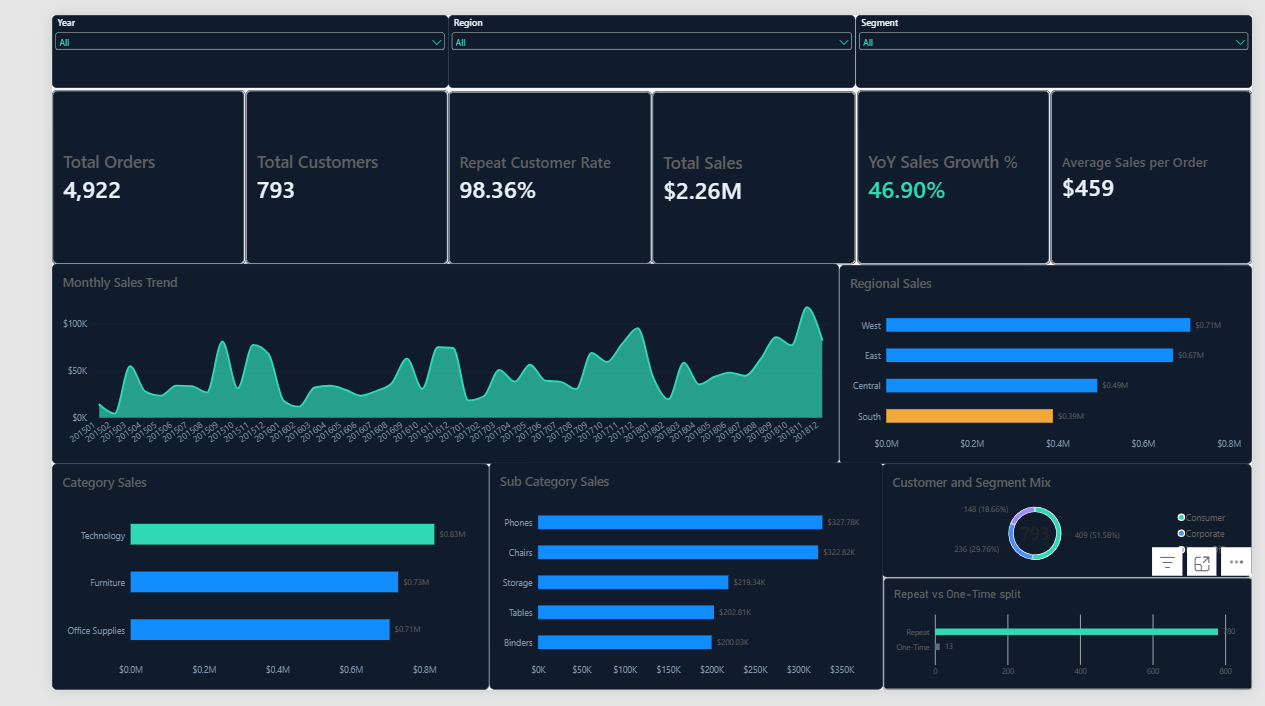

What the dashboard file says about the page in this screenshot:
{"tool":"powerbi","page":{"name":"Page 1","canvas":[1920,1080],"ordinal":0},"visuals":[{"type":"cardVisual","fields":{"Data":["Sales.Total Orders"]},"box":[0,119,309.5,279.2],"z":0},{"type":"cardVisual","fields":{"Data":["Sales.Total Customers"]},"box":[309.5,119,324.6,279.2],"z":1},{"type":"cardVisual","fields":{"Data":["Sales.Average Sales per Order"]},"box":[1597.1,119,322.5,279.2],"z":2},{"type":"cardVisual","fields":{"Data":["Sales.Repeat Customer Rate"]},"box":[634.1,121.2,326.8,277],"z":3},{"type":"cardVisual","fields":{"Data":["Sales.Total Sales"]},"box":[960.9,121.2,326.8,277],"z":4},{"type":"cardVisual","fields":{"Data":["Sales.YoY Sales Growth %"]},"box":[1287.7,119,309.5,279.2],"z":5},{"type":"lineChart","title":"Monthly Sales Trend","fields":{"Category":["DateTable.YearMonth"],"Y":["Sales.Total Sales"]},"box":[0,398.2,1259.5,320.3],"z":7},{"type":"clusteredBarChart","title":"Regional Sales","fields":{"Category":["Sales.Region"],"Y":["Sales.Total Sales"]},"box":[1259.5,400.4,660.1,318.1],"z":8},{"type":"slicer","title":"Year","fields":{"Values":["DateTable.Year"]},"box":[0,0,634.1,116.9],"z":9},{"type":"clusteredBarChart","title":"Category Sales","fields":{"Category":["Sales.Category"],"Y":["Sales.Total Sales"]},"box":[0,718.5,699,361.4],"z":10},{"type":"clusteredBarChart","title":"Sub Category Sales","fields":{"Category":["Sales.Sub-Category"],"Y":["Sales.Total Sales"]},"box":[699,716.3,629.8,363.6],"z":11},{"type":"donutChart","title":"Customer and Segment Mix","fields":{"Category":["Sales.Segment"],"Y":["Sales.Total Customers prev"]},"box":[1328.8,718.5,590.8,181.8],"z":12},{"type":"barChart","title":"Repeat vs One-Time split","fields":{"Category":["Sales.Customer Type"],"Y":["Count(Sales.Customer ID)"]},"box":[1329.2,900,590.8,180],"z":13},{"type":"slicer","title":"Year","fields":{"Values":["Sales.Region"]},"box":[634.1,0,651.4,116.9],"z":14},{"type":"slicer","title":"Year","fields":{"Values":["Sales.Segment"]},"box":[1285.5,0,634.1,116.9],"z":15}]}

Visuals, with their boxes in screenshot pixels (x1, y1, x2, y2), scaled from the page's 1920x1080 canvas onto the 1265x706 screenshot:
cardVisual - Sales.Total Orders: x1=0 y1=78 x2=204 y2=260
cardVisual - Sales.Total Customers: x1=204 y1=78 x2=418 y2=260
cardVisual - Sales.Average Sales per Order: x1=1052 y1=78 x2=1264 y2=260
cardVisual - Sales.Repeat Customer Rate: x1=418 y1=79 x2=633 y2=260
cardVisual - Sales.Total Sales: x1=633 y1=79 x2=848 y2=260
cardVisual - Sales.YoY Sales Growth %: x1=848 y1=78 x2=1052 y2=260
"Monthly Sales Trend" lineChart: x1=0 y1=260 x2=830 y2=470
"Regional Sales" clusteredBarChart: x1=830 y1=262 x2=1264 y2=470
"Year" slicer: x1=0 y1=0 x2=418 y2=76
"Category Sales" clusteredBarChart: x1=0 y1=470 x2=461 y2=705
"Sub Category Sales" clusteredBarChart: x1=461 y1=468 x2=875 y2=705
"Customer and Segment Mix" donutChart: x1=875 y1=470 x2=1264 y2=589
"Repeat vs One-Time split" barChart: x1=876 y1=588 x2=1264 y2=705
"Year" slicer: x1=418 y1=0 x2=847 y2=76
"Year" slicer: x1=847 y1=0 x2=1264 y2=76
